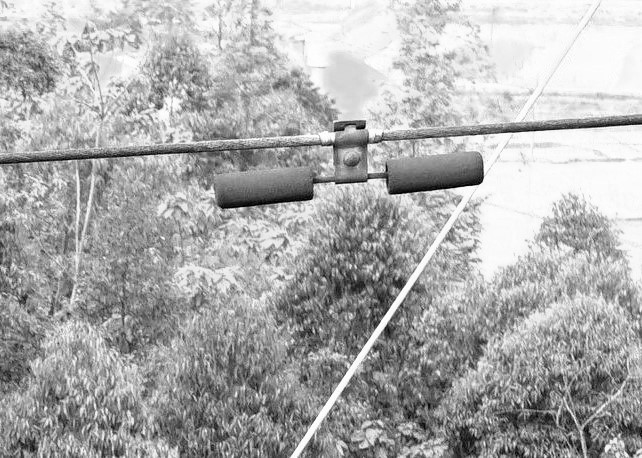Shockproof hammer: (209, 113, 493, 211)
